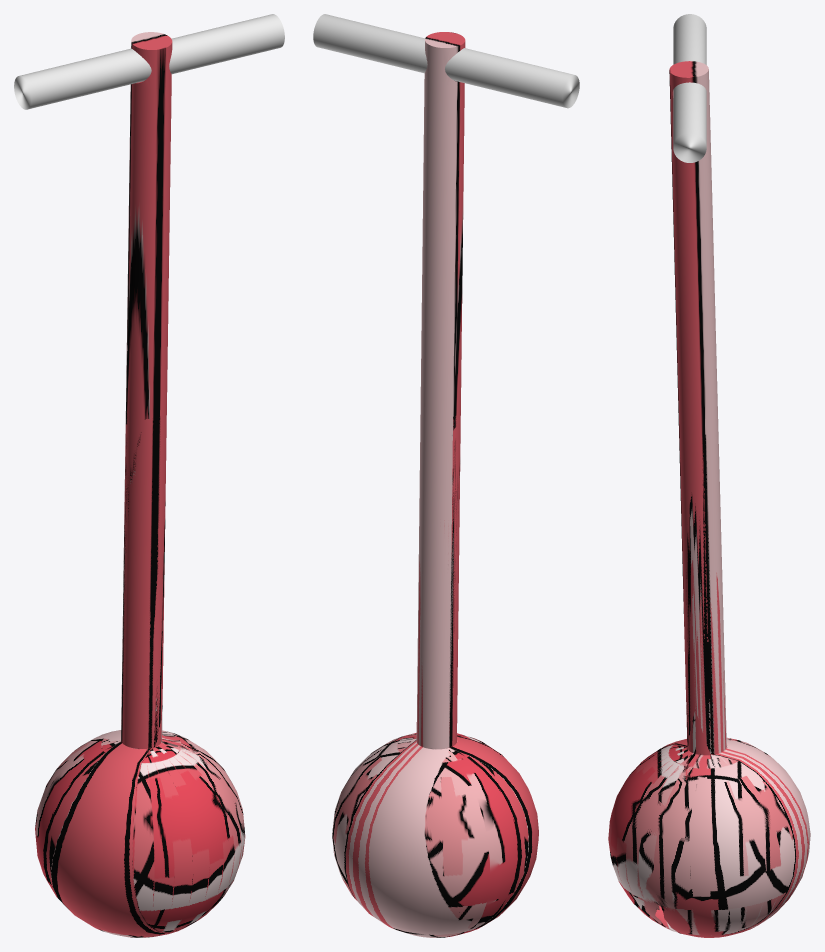
The model's file is pendule2.fbx.
3 renders of one model, left to right at view 1: azimuth 30°, elevation 25°; view 2: azimuth 150°, elevation 25°; view 3: azimuth 270°, elevation 25°, orthographic. The views are drawn at different scales.
Visible parts, largest first — view 1: Pendule, Axe; view 2: Pendule, Axe; view 3: Pendule, Axe.
Part boxes in pixels (bbox=[...]): Pendule: bbox=[35, 32, 245, 937]; Axe: bbox=[14, 14, 284, 109]; Pendule: bbox=[332, 32, 538, 937]; Axe: bbox=[313, 14, 579, 108]; Pendule: bbox=[608, 61, 810, 937]; Axe: bbox=[673, 14, 706, 162].
Size of the model in its own units: 278 by 937 by 200.
2 materials, 1 textured.
